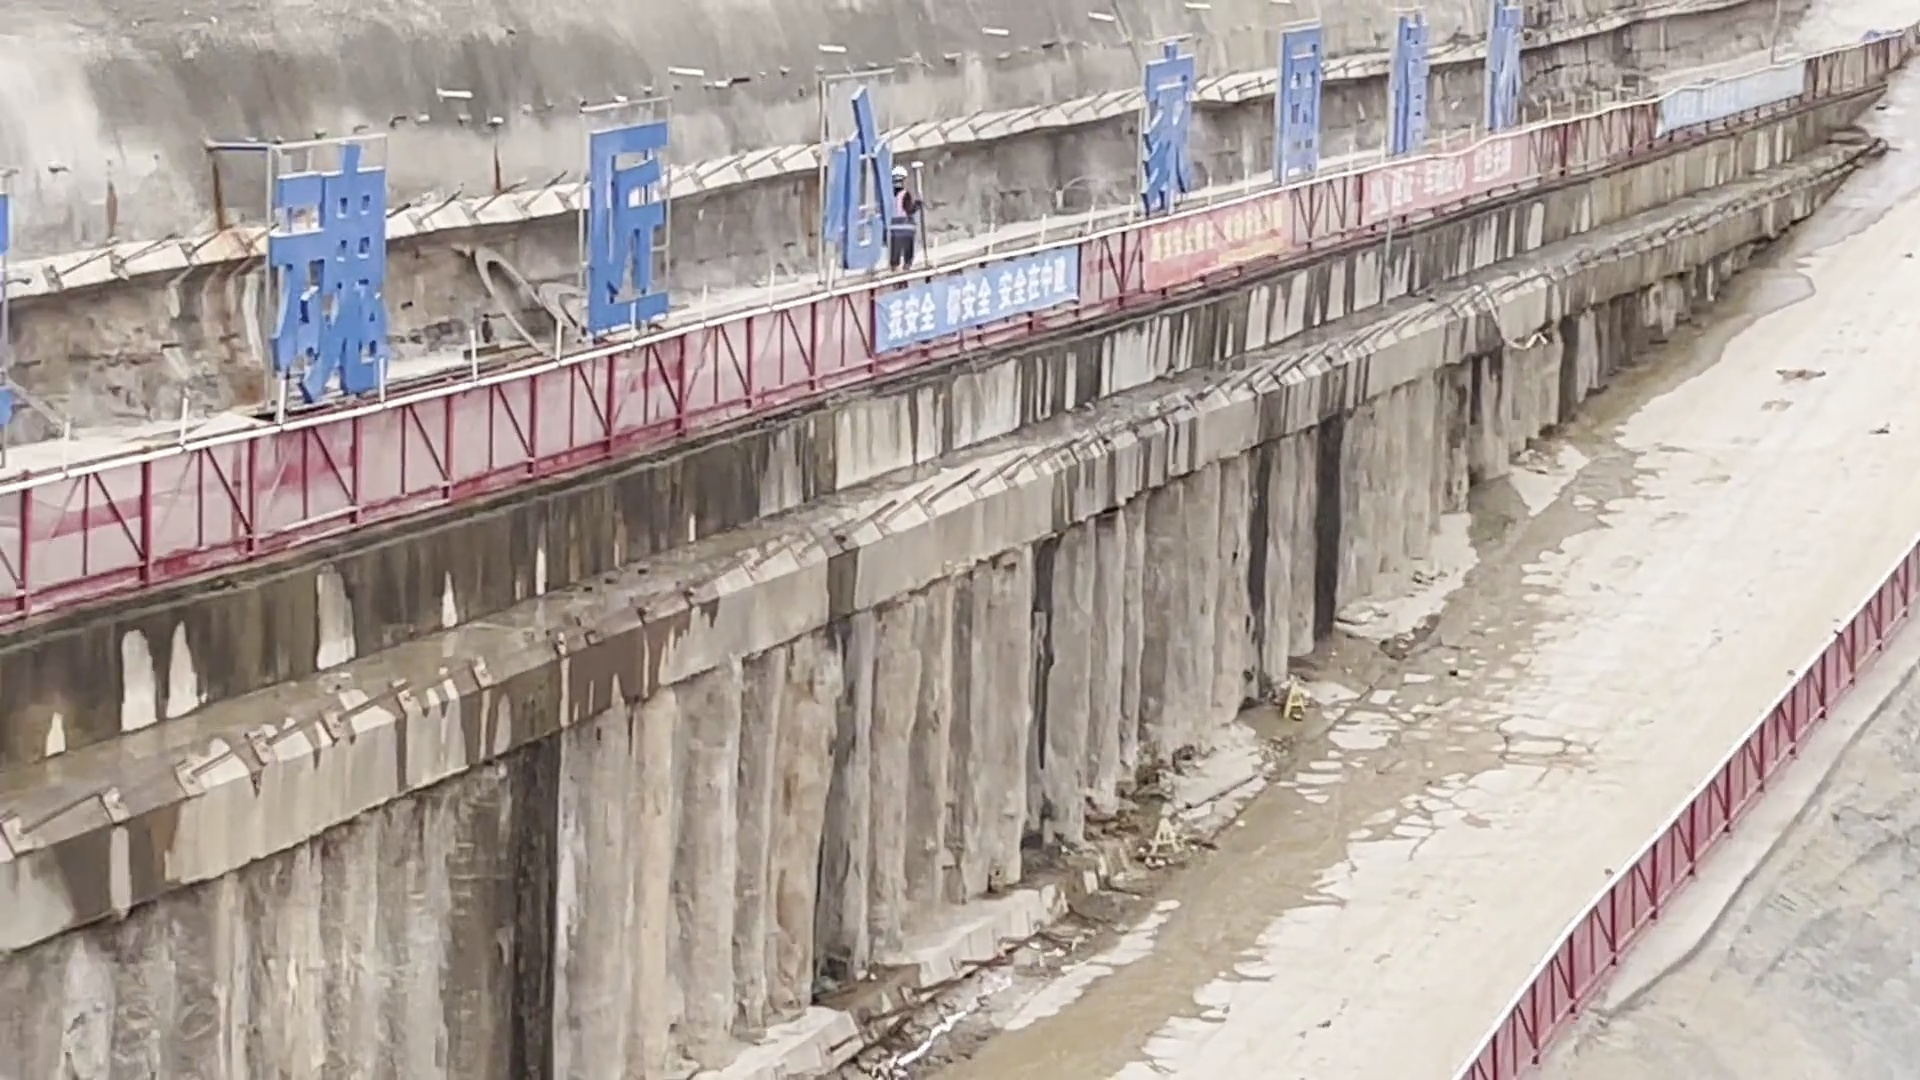fence: (4, 46, 1861, 632), (1459, 540, 1917, 1080)
helmet: (893, 165, 905, 177)
person: (892, 165, 930, 265)
slogan: (273, 25, 900, 423), (1147, 1, 1532, 202), (880, 249, 1077, 361), (1366, 139, 1529, 232), (1150, 195, 1287, 298), (1652, 66, 1803, 140)
